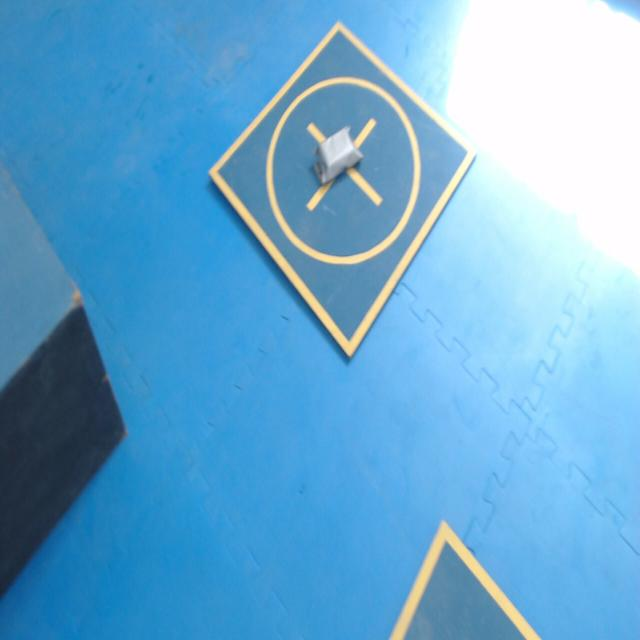esquerda: (315, 126, 362, 184)
